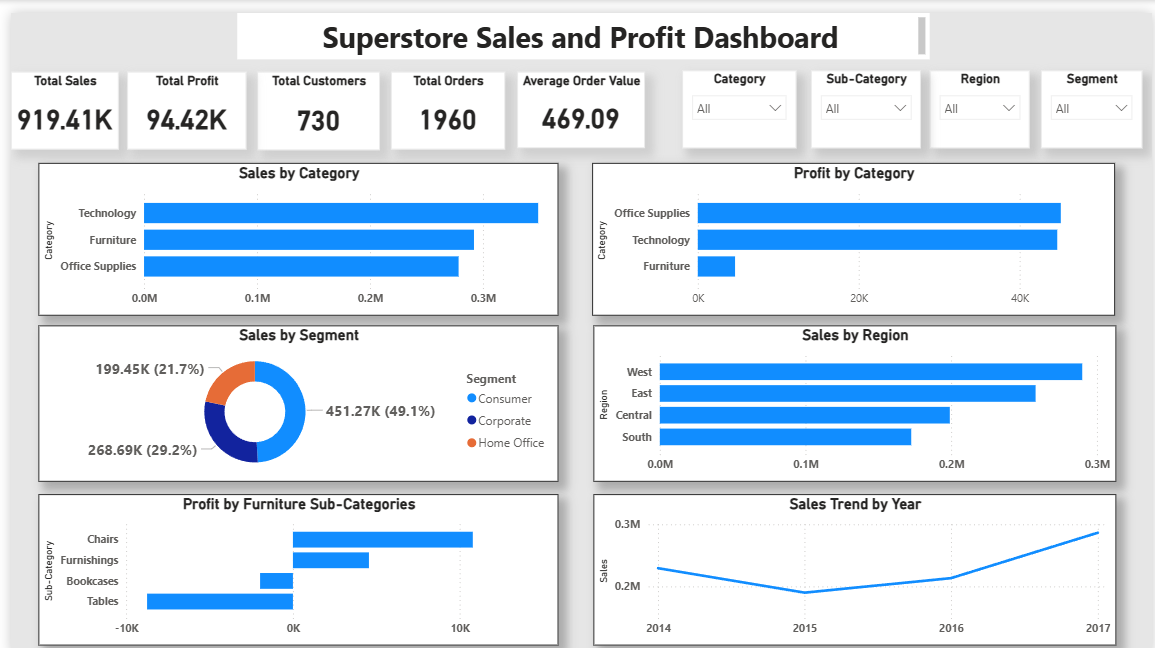

The page's visual inventory and layout, read from the dashboard file:
{"tool":"powerbi","page":{"name":"Page 2","canvas":[1280,720],"ordinal":0},"visuals":[{"type":"card","title":"Total Customers","fields":{"Values":["Count(new_superstore.Customer ID)"]},"box":[276.2,65.9,137.4,88.3],"z":0},{"type":"card","title":"Total Sales","fields":{"Values":["Sum(new_superstore.Sales)"]},"box":[0,65.9,120.6,86.9],"z":1000},{"type":"card","title":"Total Profit","fields":{"Values":["Sum(new_superstore.Profit)"]},"box":[130.4,65.9,133.2,86.9],"z":2000},{"type":"card","title":"Total Orders","fields":{"Values":["Count(new_superstore.Order ID)"]},"box":[426.3,65.9,127.6,86.9],"z":3000},{"type":"textbox","box":[253.8,0,776.9,51.9],"z":4000},{"type":"card","title":"Average Order Value","fields":{"Values":["new_superstore.Average_Order_Value"]},"box":[567.9,65.9,143,85.5],"z":5000},{"type":"slicer","title":"Category","fields":{"Values":["new_superstore.Category"]},"box":[753,64.5,127.6,86.9],"z":6000},{"type":"slicer","title":"Region","fields":{"Values":["new_superstore.Region"]},"box":[1030.7,64.5,112.2,86.9],"z":7000},{"type":"slicer","title":"Segment","fields":{"Values":["new_superstore.Segment"]},"box":[1155.5,64.5,113.6,86.9],"z":8000},{"type":"slicer","title":"Sub-Category","fields":{"Values":["new_superstore.Sub-Category"]},"box":[897.5,64.5,123.4,86.9],"z":9000},{"type":"clusteredBarChart","title":"Sales by Category","fields":{"Y":["Sum(new_superstore.Sales)"],"Category":["new_superstore.Category"]},"box":[30.9,168.3,583.3,171.1],"z":10000},{"type":"clusteredBarChart","title":"Profit by Category","fields":{"Y":["Sum(new_superstore.Profit)"],"Category":["new_superstore.Category"]},"box":[652.1,168.3,586.2,171.1],"z":11000},{"type":"donutChart","title":"Sales by Segment","fields":{"Y":["Sum(new_superstore.Sales)"],"Category":["new_superstore.Segment"]},"box":[30.9,350.6,583.3,175.3],"z":12000},{"type":"clusteredBarChart","title":"Sales by Region","fields":{"Y":["Sum(new_superstore.Sales)"],"Category":["new_superstore.Region"]},"box":[653.5,350.6,586.2,175.3],"z":13000},{"type":"barChart","title":"Profit by Furniture Sub-Categories","fields":{"Category":["new_superstore.Sub-Category"],"Y":["Sum(new_superstore.Profit)"]},"box":[30.9,539.9,583.3,169.7],"z":14000},{"type":"lineChart","title":"Sales Trend by Year","fields":{"Y":["Sum(new_superstore.Sales)"],"Category":["new_superstore.Order Date.Variation.Date Hierarchy.Year"]},"box":[653.5,539.9,586.2,169.7],"z":15000}]}

Visuals, with their boxes in screenshot pixels (x1, y1, x2, y2), scaled from the page's 1280x720 canvas onto the 1155x648 screenshot:
"Total Customers" card: crop(249, 59, 373, 139)
"Total Sales" card: crop(0, 59, 109, 138)
"Total Profit" card: crop(118, 59, 238, 138)
"Total Orders" card: crop(385, 59, 500, 138)
textbox: crop(229, 0, 930, 47)
"Average Order Value" card: crop(512, 59, 641, 136)
"Category" slicer: crop(679, 58, 795, 136)
"Region" slicer: crop(930, 58, 1031, 136)
"Segment" slicer: crop(1043, 58, 1145, 136)
"Sub-Category" slicer: crop(810, 58, 921, 136)
"Sales by Category" clusteredBarChart: crop(28, 151, 554, 305)
"Profit by Category" clusteredBarChart: crop(588, 151, 1117, 305)
"Sales by Segment" donutChart: crop(28, 316, 554, 473)
"Sales by Region" clusteredBarChart: crop(590, 316, 1119, 473)
"Profit by Furniture Sub-Categories" barChart: crop(28, 486, 554, 639)
"Sales Trend by Year" lineChart: crop(590, 486, 1119, 639)
